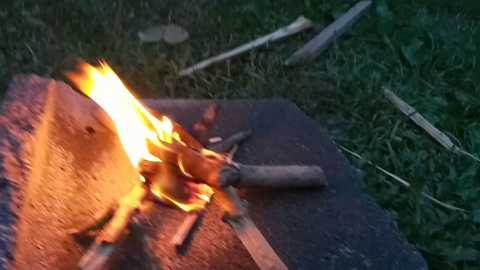fire: (62, 49, 241, 215)
